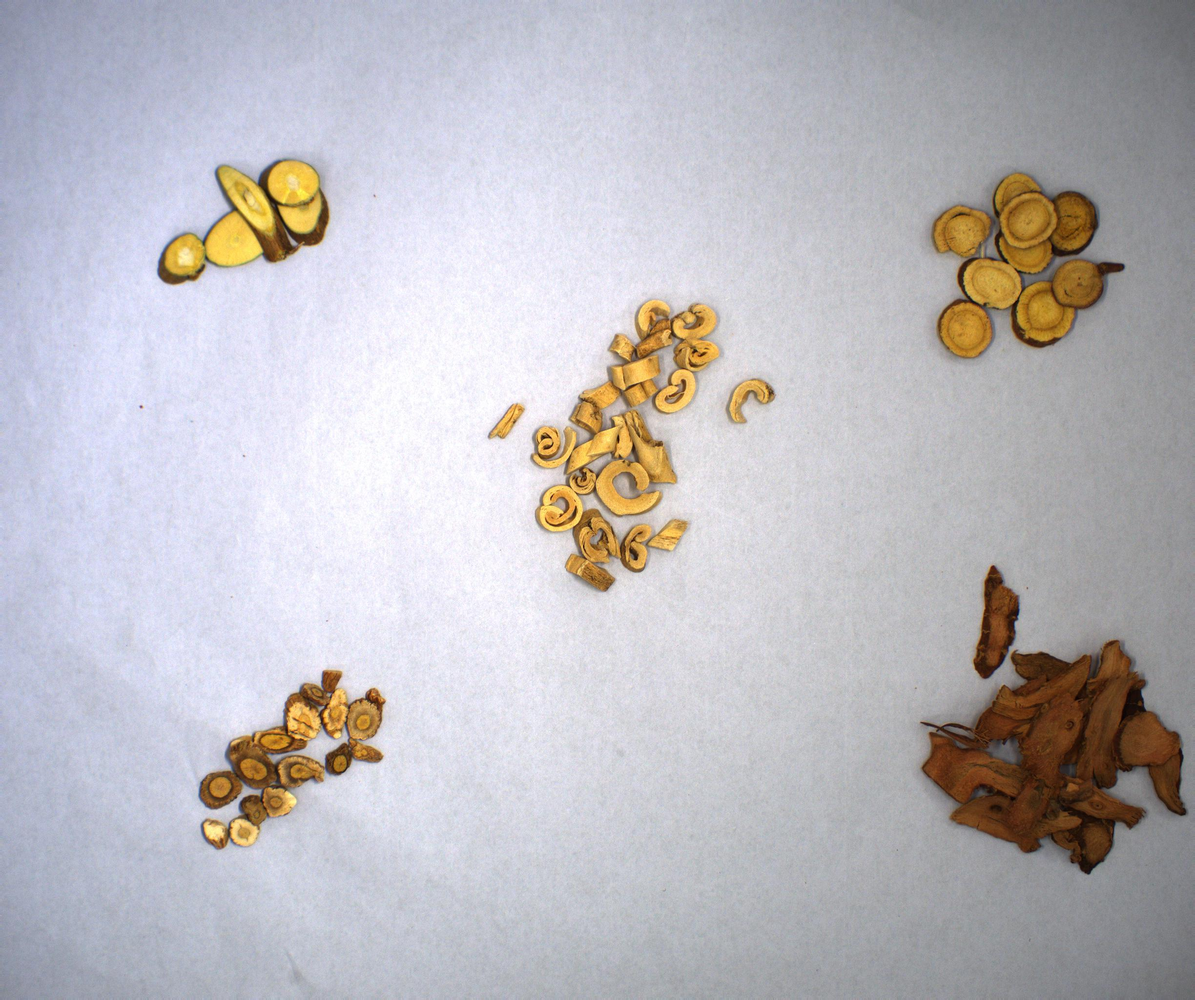baixianpi: (480, 293, 786, 606)
banlangen: (185, 657, 394, 856)
gancaopian: (918, 165, 1134, 369)
gaoliangjiang: (906, 555, 1195, 886)
sangzhi: (150, 150, 338, 311)
